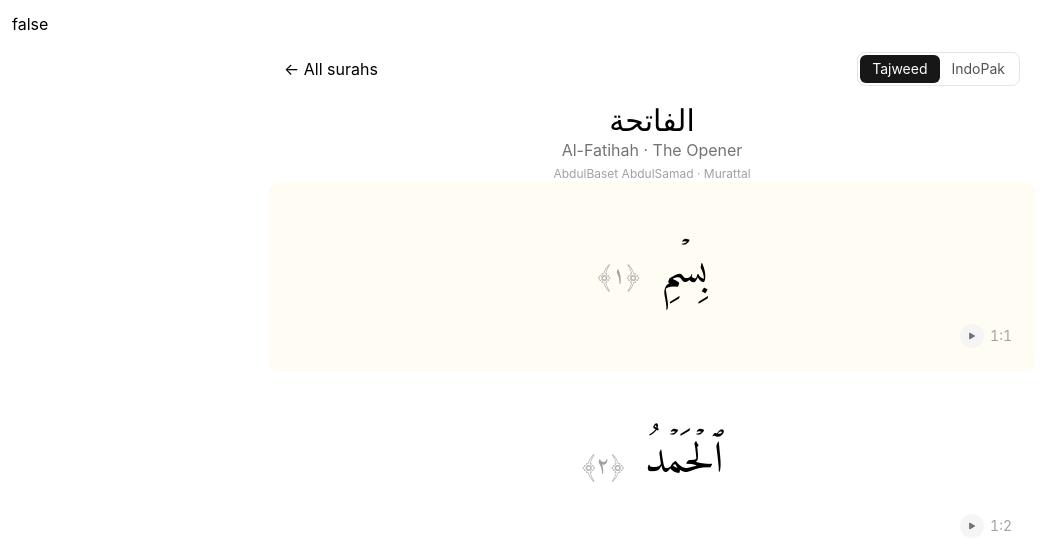
SurahClient memoization under PlayerProvider › does not reconcile AyahBlock on progress ticks once playback is running
Click the button named "Play ayah 1".
click(989, 336)  # box [954,320,1024,352]
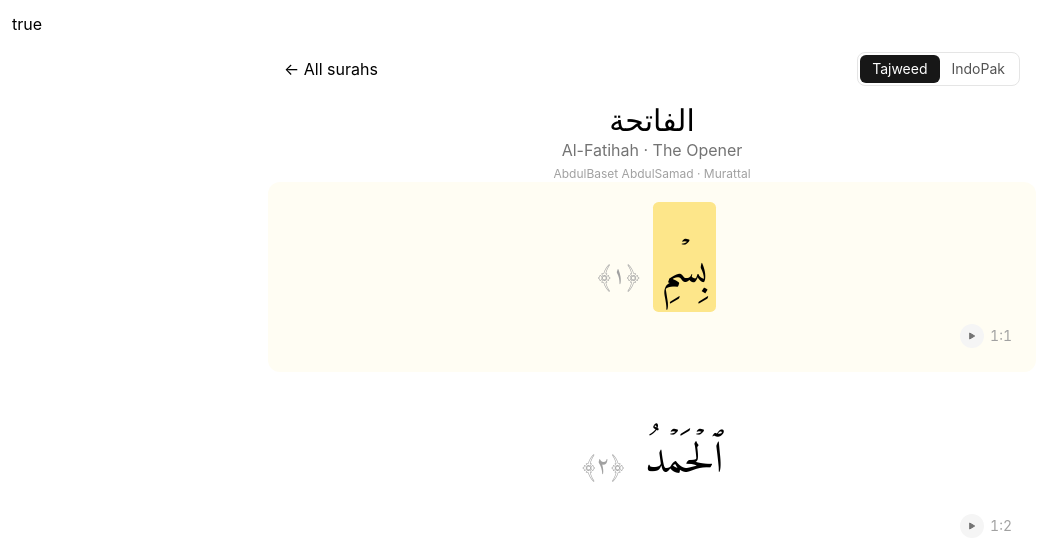
expect the text with test id "playing" reads "true": met, box [12,14,42,34]
